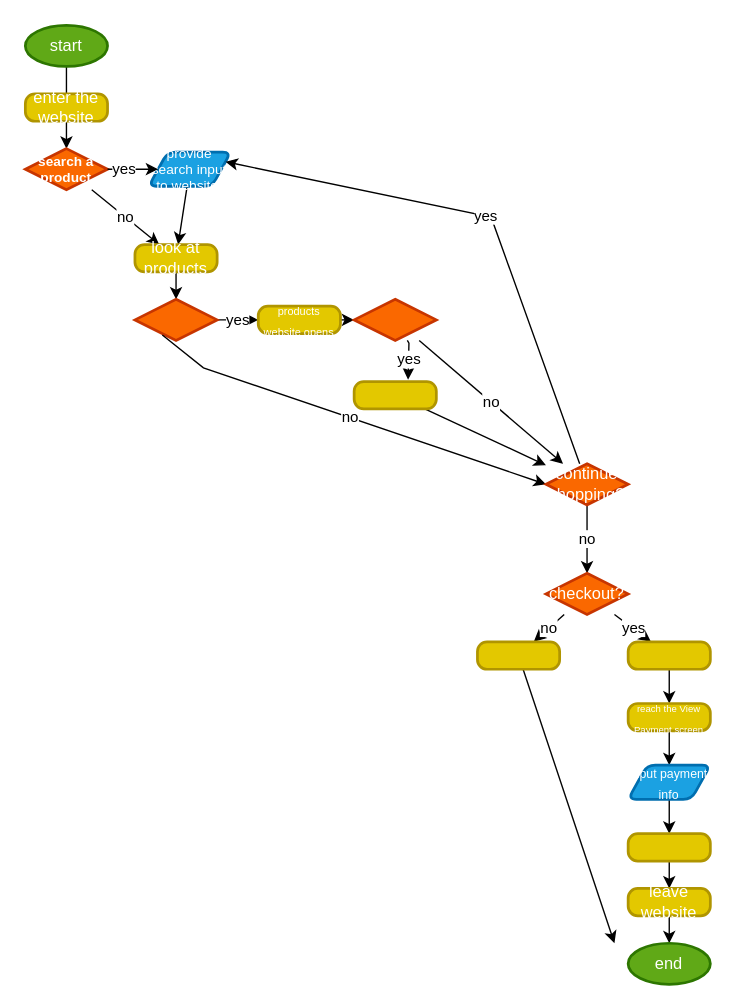
The diagram is 734 pixels wide and 1008 high, and some of its shapes have lost their labels. The centre of each missing label's shape, as x and y in pixels:
"add to cart?" goes at [394,319].
"added to cart conrimation" goes at [394,394].
"confirmation screen & recieve email" goes at [668,847].
"leave the website" goes at [517,655].
"reach the View Cart screen" goes at [668,655].
"view specific product?" goes at [175,319].
